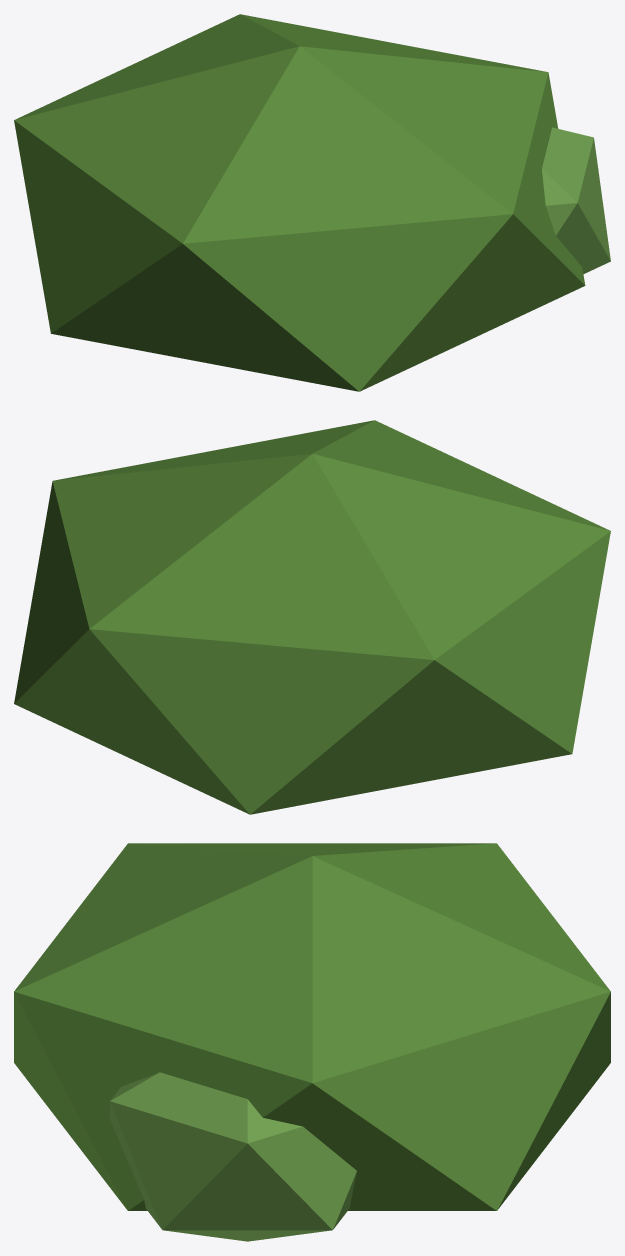
The model's file is shrub.glb.
3 renders of one model, top to bottom at view 1: azimuth 30°, elevation 25°; view 2: azimuth 150°, elevation 25°; view 3: azimuth 270°, elevation 25°, orthographic. The views are drawn at different scales.
Parts seen in each view (by area): view 1: shrub; view 2: shrub; view 3: shrub.
Boxes of the visible parts, left/top/right/bottom form: shrub: left=14, top=14, right=610, bottom=391; shrub: left=14, top=420, right=610, bottom=814; shrub: left=14, top=843, right=610, bottom=1241.
Size of the model in its own units: 1.2 by 0.7 by 1.11.
